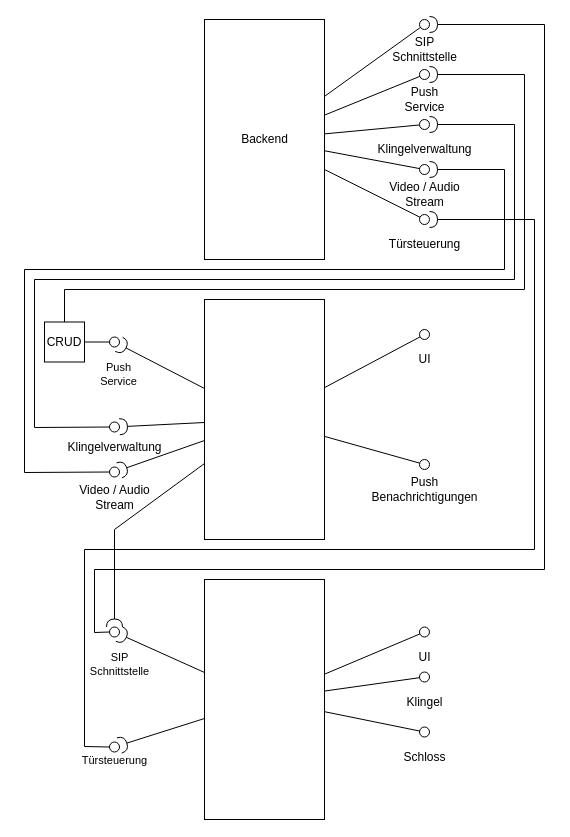
Image size: 570x837. Some labels were removed from this diagram. Each missing label, with the centre of its shape:
"Klingel App (Android / iOS)" goes at point (264, 419).
"Klingel Hardware" goes at point (264, 699).
